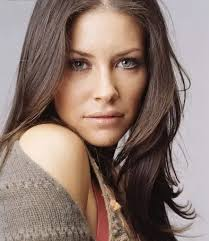middle_eastern_Female: (47, 3, 169, 146)
